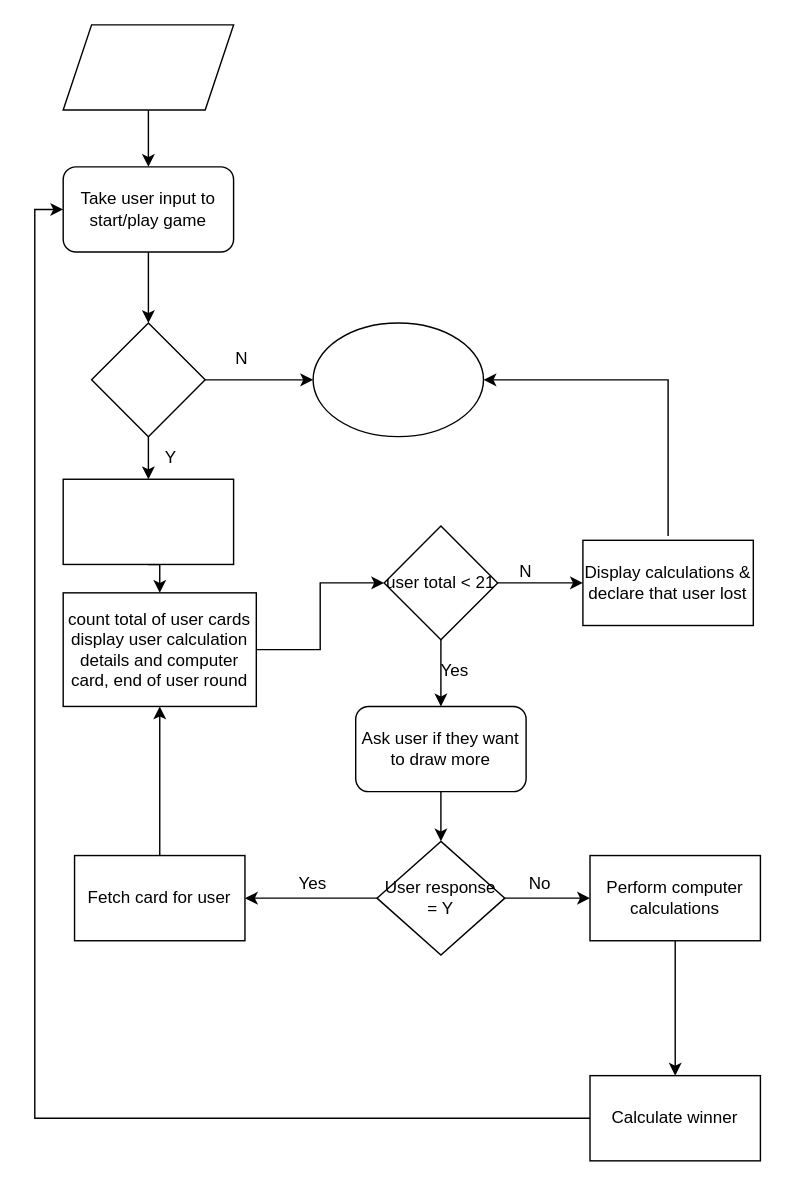
Some shapes in this 785 by 1186 pixel diagram are drawn without their labels. Here are the shapes that lost their labels. From the top down, the centre of each, then its label:
(x=148, y=66): Start
(x=147, y=379): user_response
(x=398, y=379): End
(x=148, y=521): Fetch user cards Fetch Computer cards
